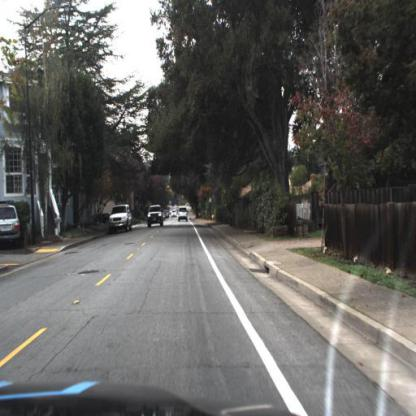car: (2, 201, 24, 253), (108, 203, 134, 231), (145, 204, 166, 229), (177, 206, 191, 224)
